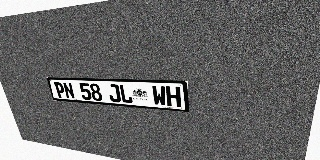plate: (46, 77, 189, 112)
